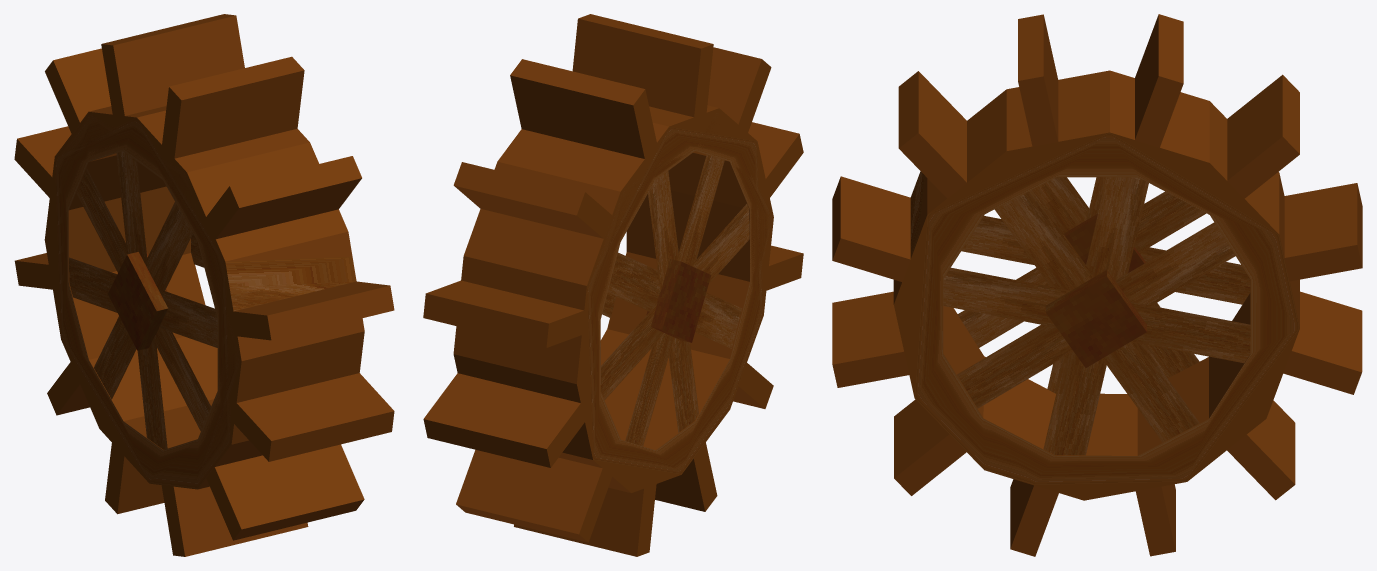
Rendered from Waterwheel.glb.
The picture shows the model from 3 angles, left to right: view 1: azimuth 30°, elevation 25°; view 2: azimuth 150°, elevation 25°; view 3: azimuth 270°, elevation 25°; orthographic projection. The views are drawn at different scales.
Visible parts, largest first — view 1: Cube; view 2: Cube; view 3: Cube.
Part boxes in pixels (x1=…): Cube: x1=14, y1=14, x2=394, y2=556; Cube: x1=423, y1=14, x2=803, y2=556; Cube: x1=832, y1=14, x2=1362, y2=556.
Bounding box in the file's own units: 1.2 × 3.62 × 3.62.
3 materials, 3 textured.
